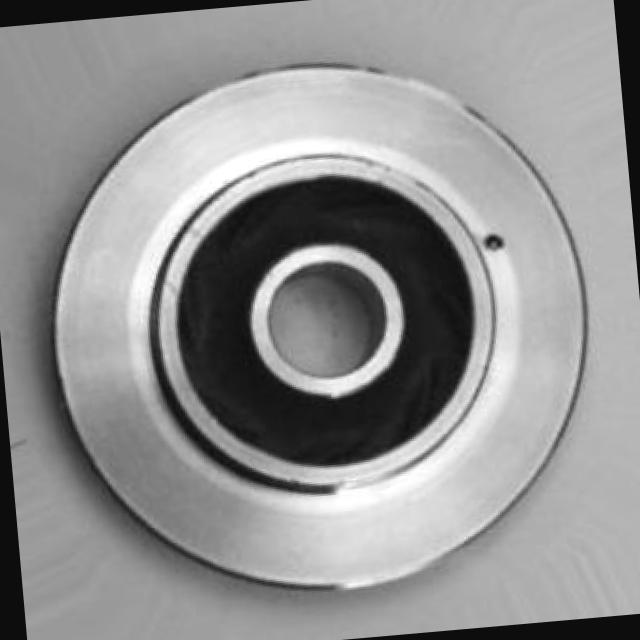Defect: (472, 219, 518, 264)
